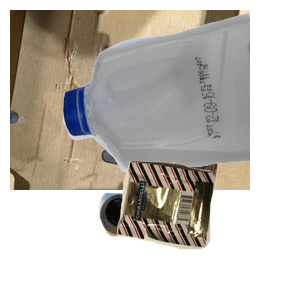cardboard: (10, 10, 250, 190)
glass: (96, 190, 230, 300)
plastic: (60, 10, 300, 175)
trash: (115, 158, 300, 300)
